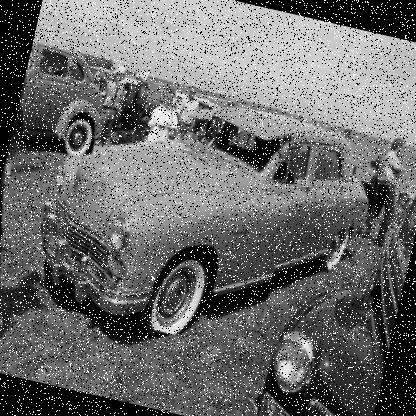Car: (35, 76, 385, 372), (236, 143, 415, 415), (10, 42, 113, 160), (140, 84, 216, 137)
